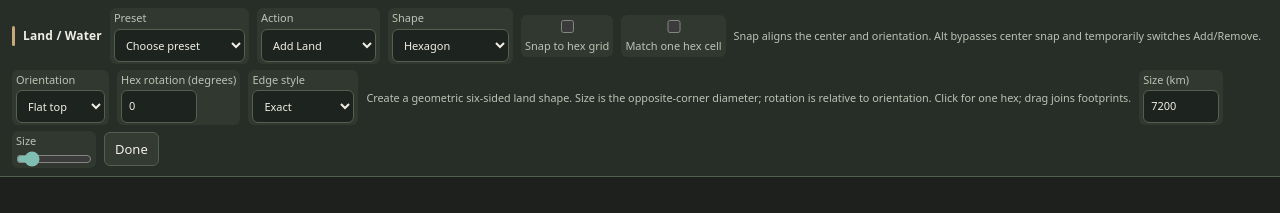
Test: matches one cell while retaining soft/rough choices and locking grid-aligned rotation
Click the checkbox labelled "Match one hex cell".
click(674, 26)  # box 629,20 -> 719,33
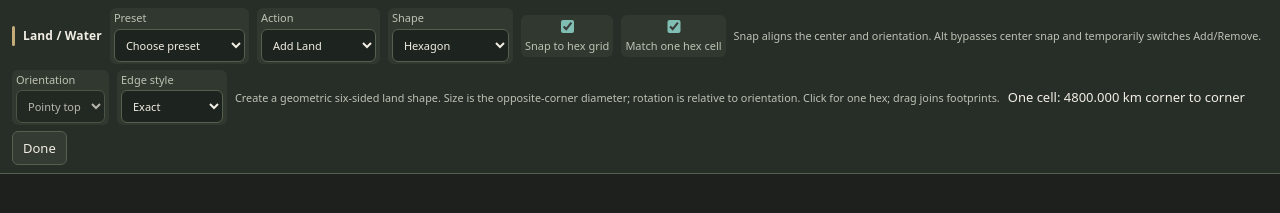
Expected: the checkbox labelled "Snap to hex grid" is checked, 529,20 -> 606,33
Expected: the dropdown named "Hex orientation" is disabled, 16,90 -> 105,123
Expected: the dropdown named "Hex orientation" shows "Pointy top", 16,90 -> 105,123
Select "Round" in the dropdown named "Land brush shape" at (450, 45), box 392,28 -> 509,62
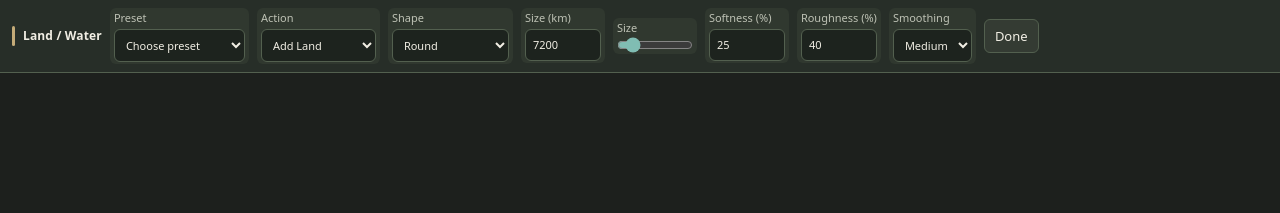
Expected: the slider named "Land brush size slider" is enabled, 617,38 -> 693,52
Select "Hexagon" in the dropdown named "Land brush shape" at (450, 45), box 392,28 -> 509,62
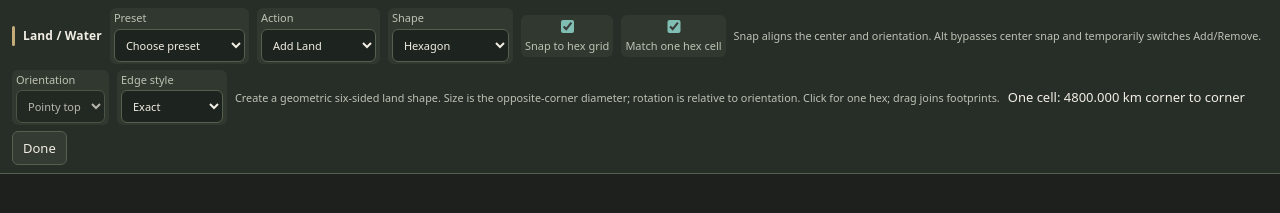
Select "Rough Coast" in the dropdown named "Hex edge style" at (172, 106), box 121,90 -> 223,123
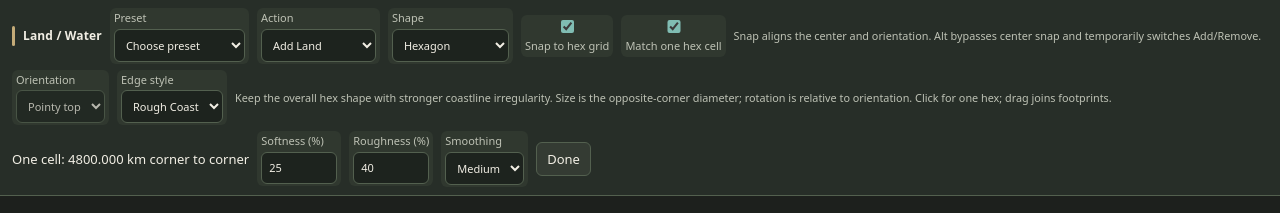
Expected: the number field labelled "Roughness (%)" is enabled, 353,152 -> 429,184
Click the checkbox labelled "Snap to hex grid".
click(568, 26)  # box 529,20 -> 606,33
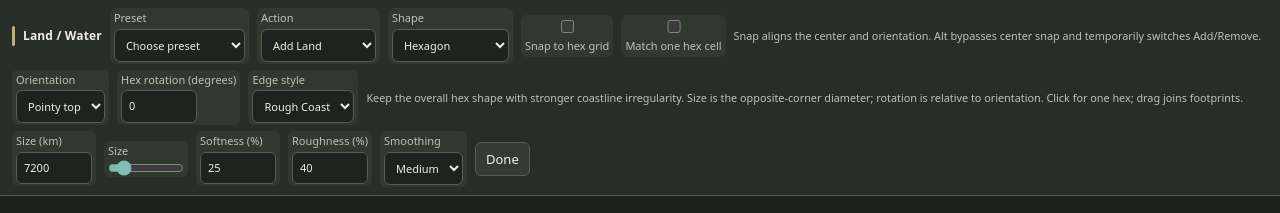
Expected: the checkbox labelled "Match one hex cell" is not checked, 629,20 -> 719,33
Expected: the number field labelled "Hex rotation (degrees)" is enabled, 121,90 -> 197,123
